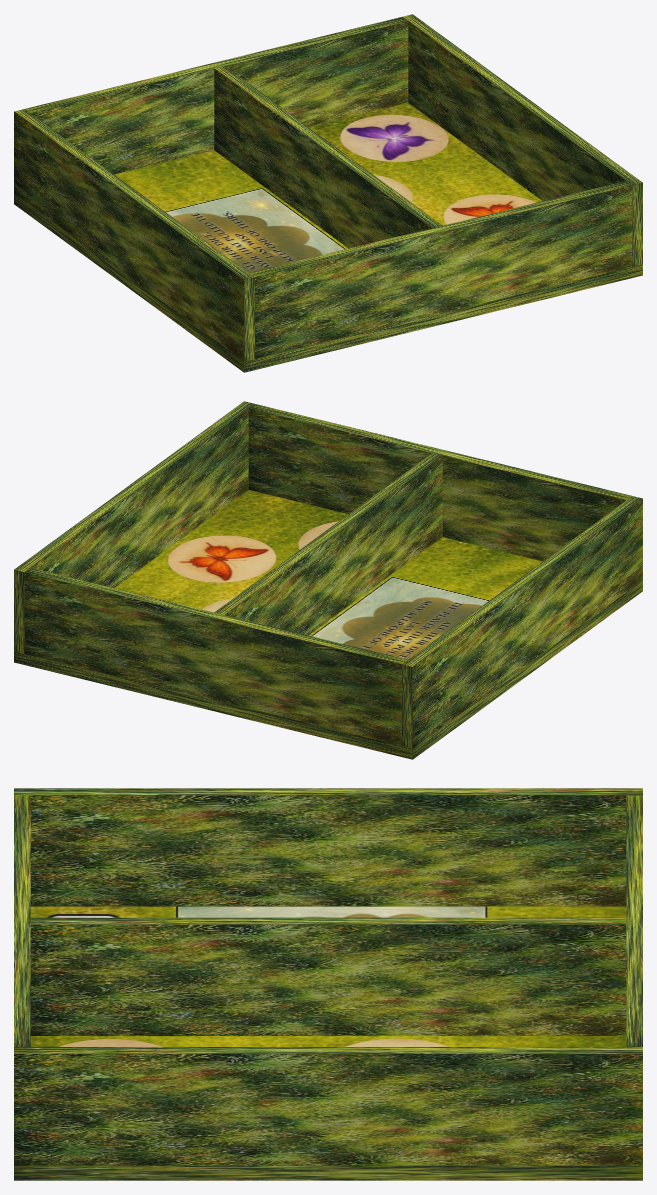
Rendered from Wisp_Butterfly_Tray.obj.
3 views of the same model, one above another, from view 1: azimuth 30°, elevation 25°; view 2: azimuth 150°, elevation 25°; view 3: azimuth 270°, elevation 25° (orthographic). The views are drawn at different scales.
Parts seen in each view (by area): view 1: Leaf_And_Let_Die_Wisp_Butterfly_Tray; view 2: Leaf_And_Let_Die_Wisp_Butterfly_Tray; view 3: Leaf_And_Let_Die_Wisp_Butterfly_Tray.
Part boxes in pixels (x1,y1,x2,y2): Leaf_And_Let_Die_Wisp_Butterfly_Tray: [14, 14, 642, 372]; Leaf_And_Let_Die_Wisp_Butterfly_Tray: [14, 401, 642, 759]; Leaf_And_Let_Die_Wisp_Butterfly_Tray: [14, 788, 642, 1180].
Bounding box in the file's own units: 6.57 × 1.46 × 6.57.
Materials: 1 (1 with a texture image).
